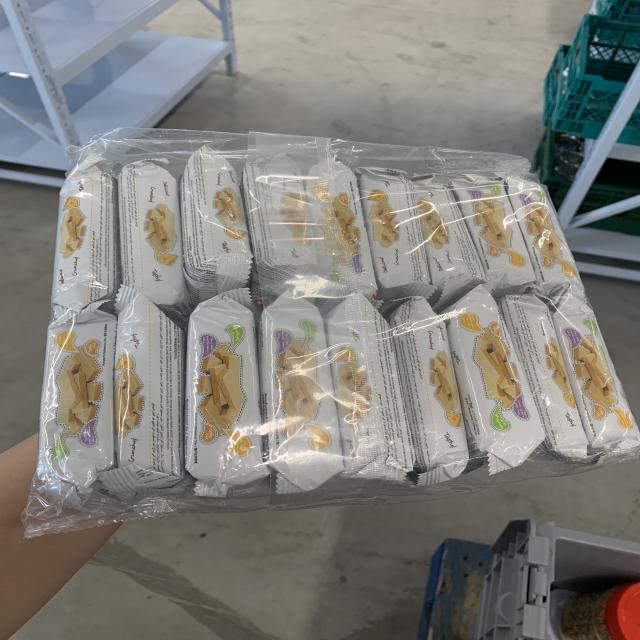object_name: (55, 145, 600, 477)
